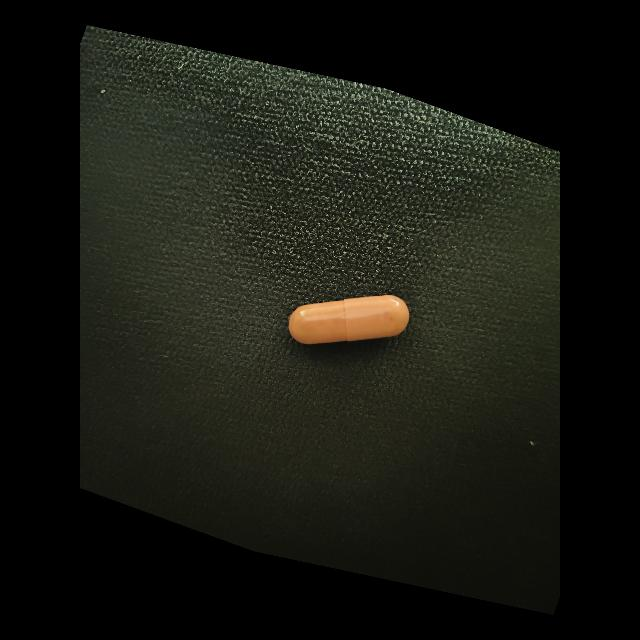Intact Capsule: (288, 295, 410, 344)
